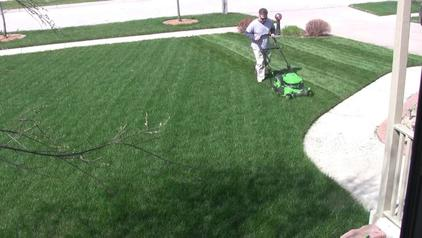sit: (240, 11, 283, 74)
